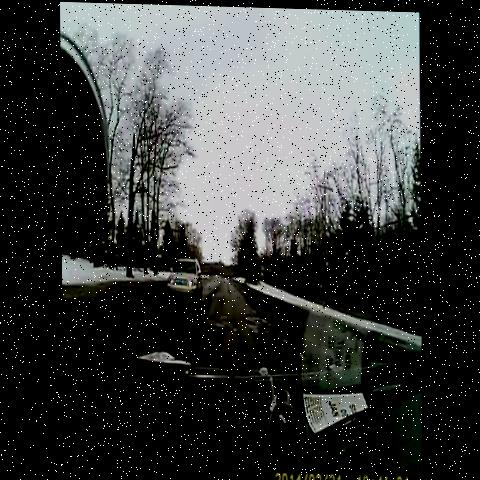pothole: (195, 309, 230, 347), (245, 312, 272, 343), (274, 332, 294, 353)
